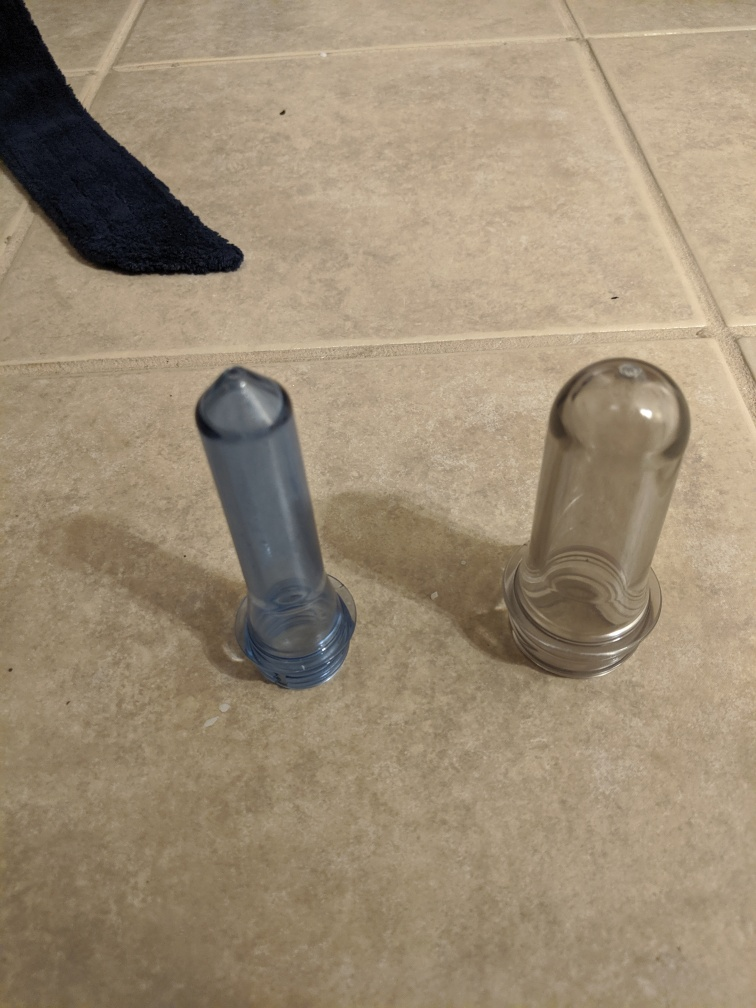preform: (497, 350, 700, 689), (181, 351, 371, 695)
